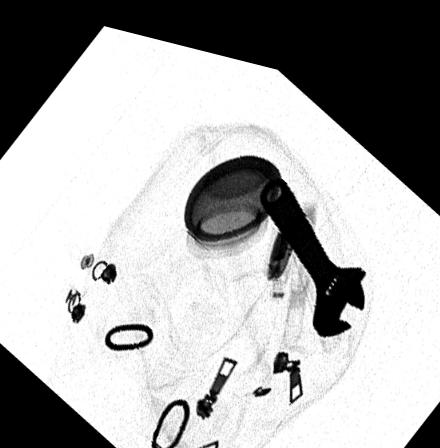Wrench: (257, 158, 366, 324)
